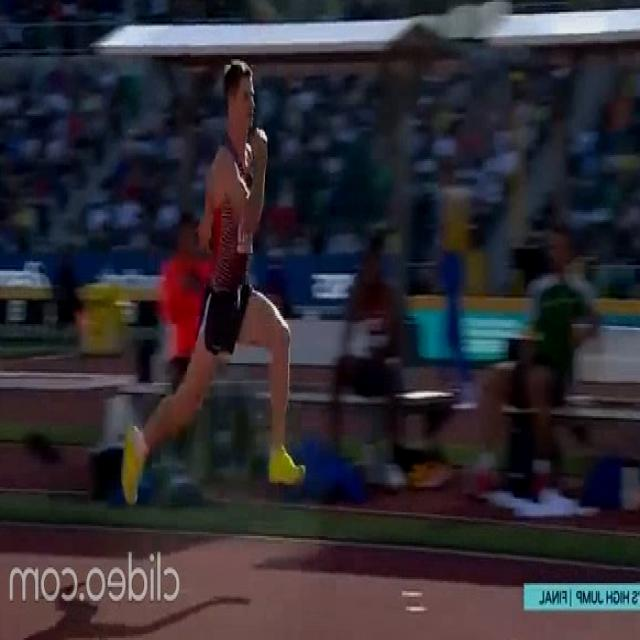run: (121, 61, 305, 500)
